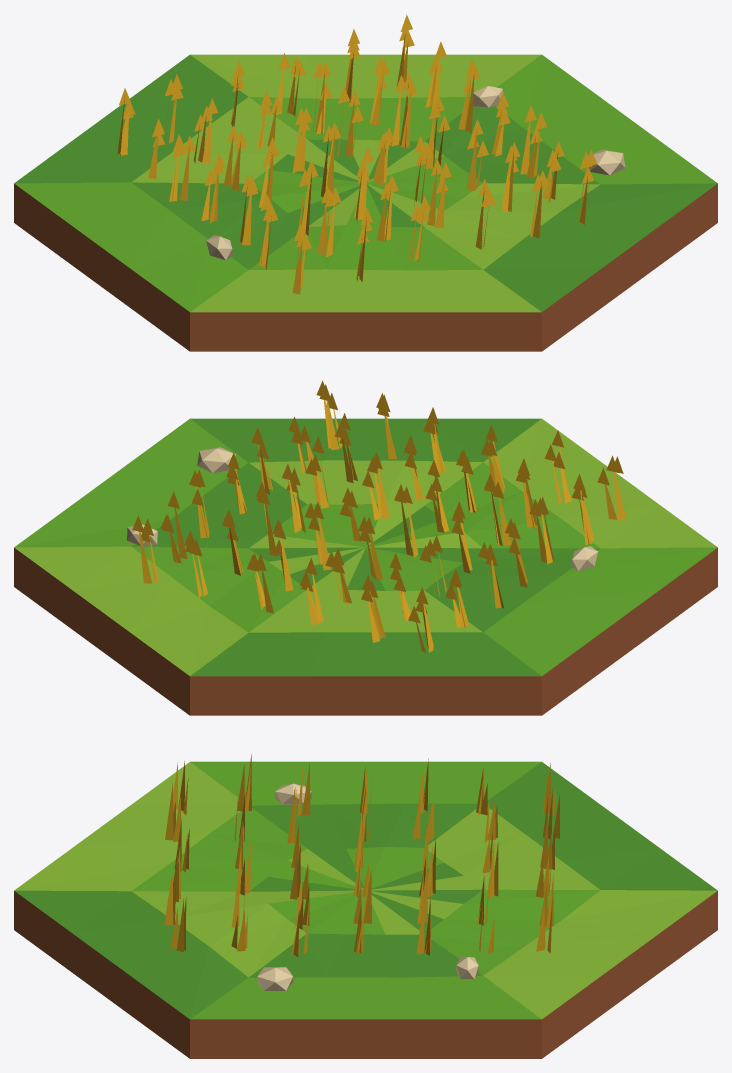
The model's file is SM_Llanura_B_LOD0.fbx.
3 views of the same model, one above another, from view 1: azimuth 30°, elevation 25°; view 2: azimuth 150°, elevation 25°; view 3: azimuth 270°, elevation 25° (orthographic).
Parts seen in each view (by area): view 1: SM_Llanura_B_LOD0; view 2: SM_Llanura_B_LOD0; view 3: SM_Llanura_B_LOD0.
Part boxes in pixels (<box>): SM_Llanura_B_LOD0: <box>14,14,717,351</box>; SM_Llanura_B_LOD0: <box>14,380,717,715</box>; SM_Llanura_B_LOD0: <box>14,754,717,1058</box>.
Bounding box in the file's own units: 1.68 × 0.3347 × 1.94.
